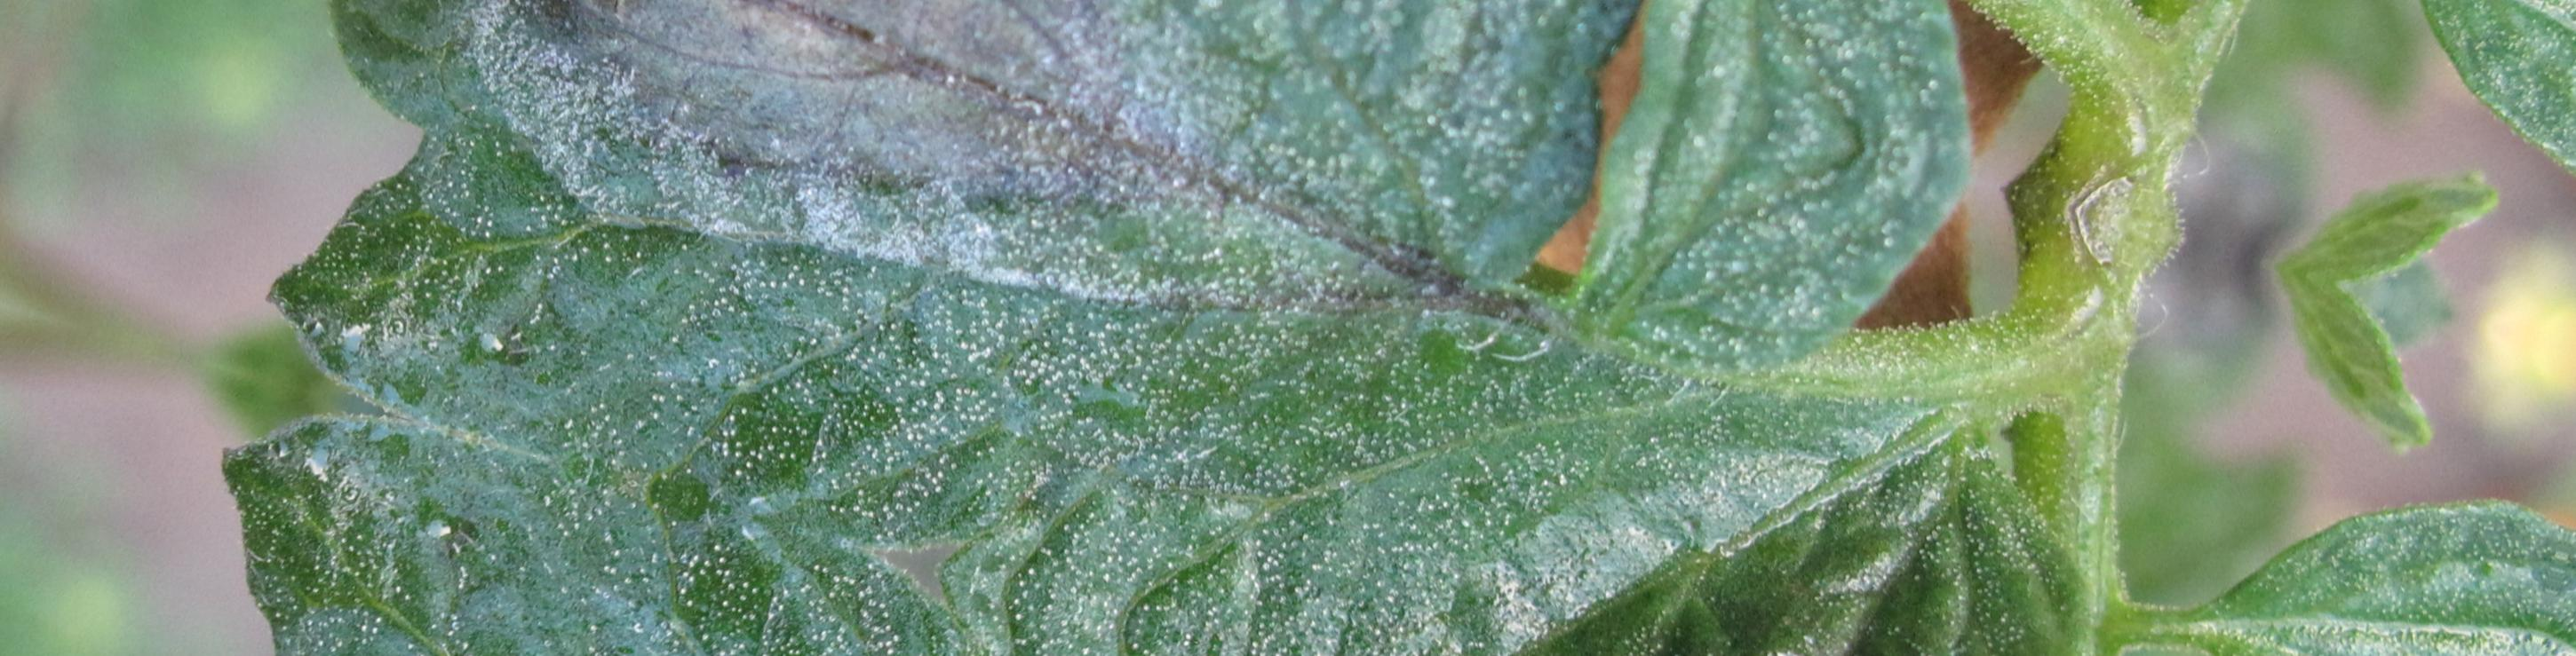Tomato leaf late blight: (0, 0, 2334, 656)
